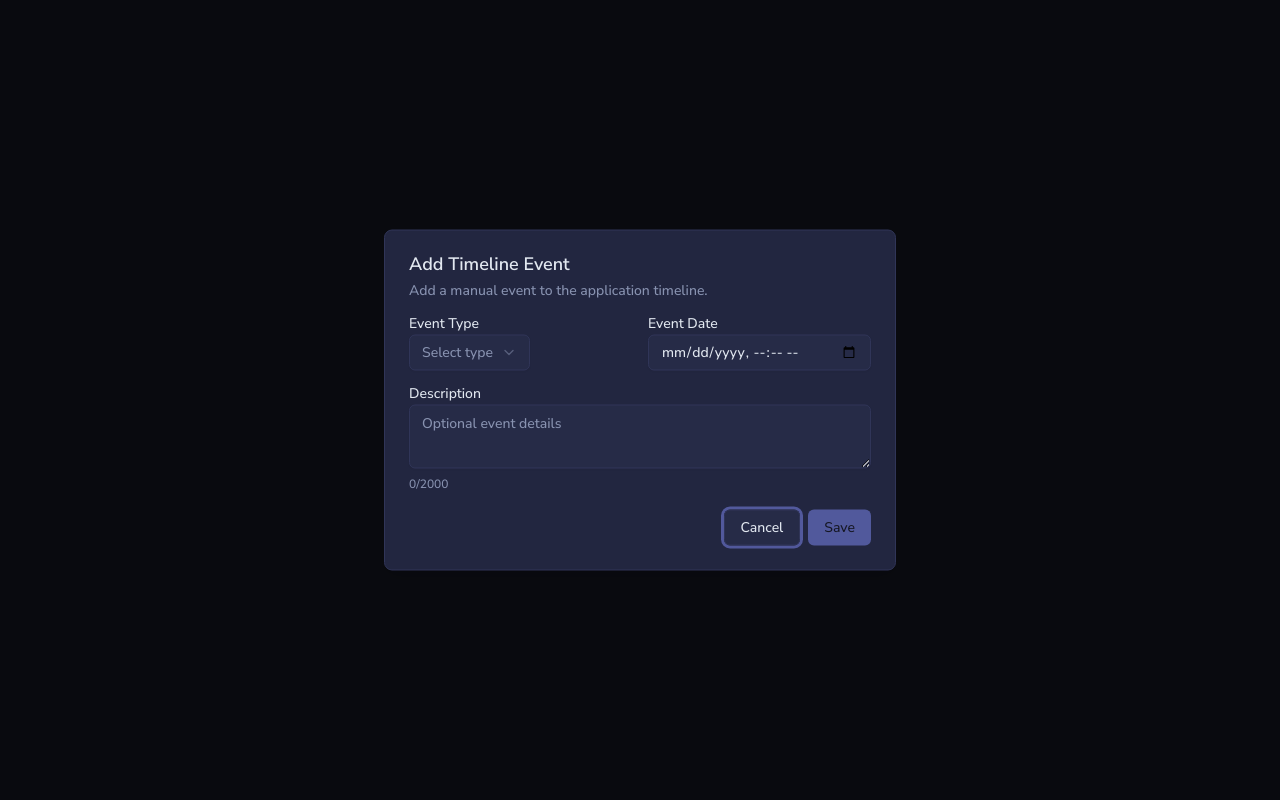
it: AddTimelineEventDialog › conditional interview stage › shows interview stage when interview_completed is selected
# Select interview_completed
Click the dropdown with test id "event-type-select" at (470, 352), box [409,334,530,370]
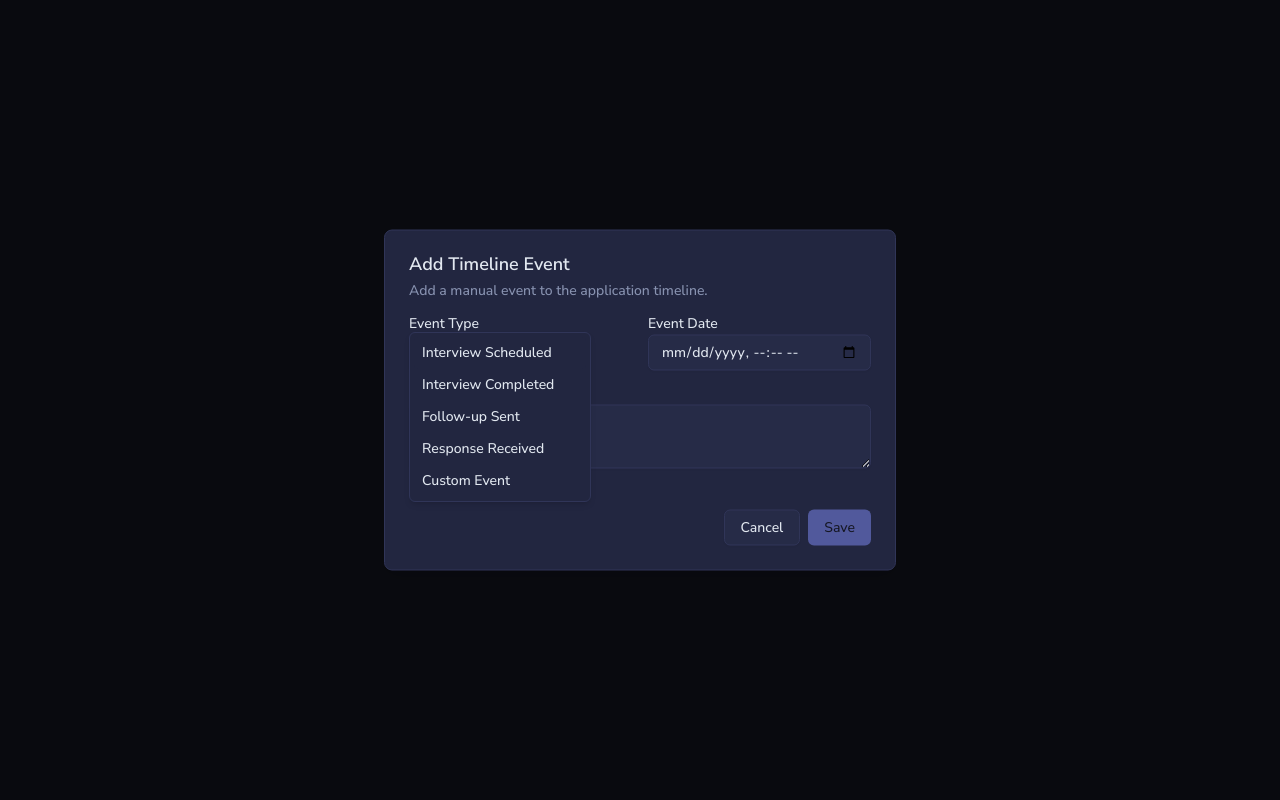
Now the option "Interview Completed" is shown
Click the option "Interview Completed" at (488, 384), box [422,374,554,394]
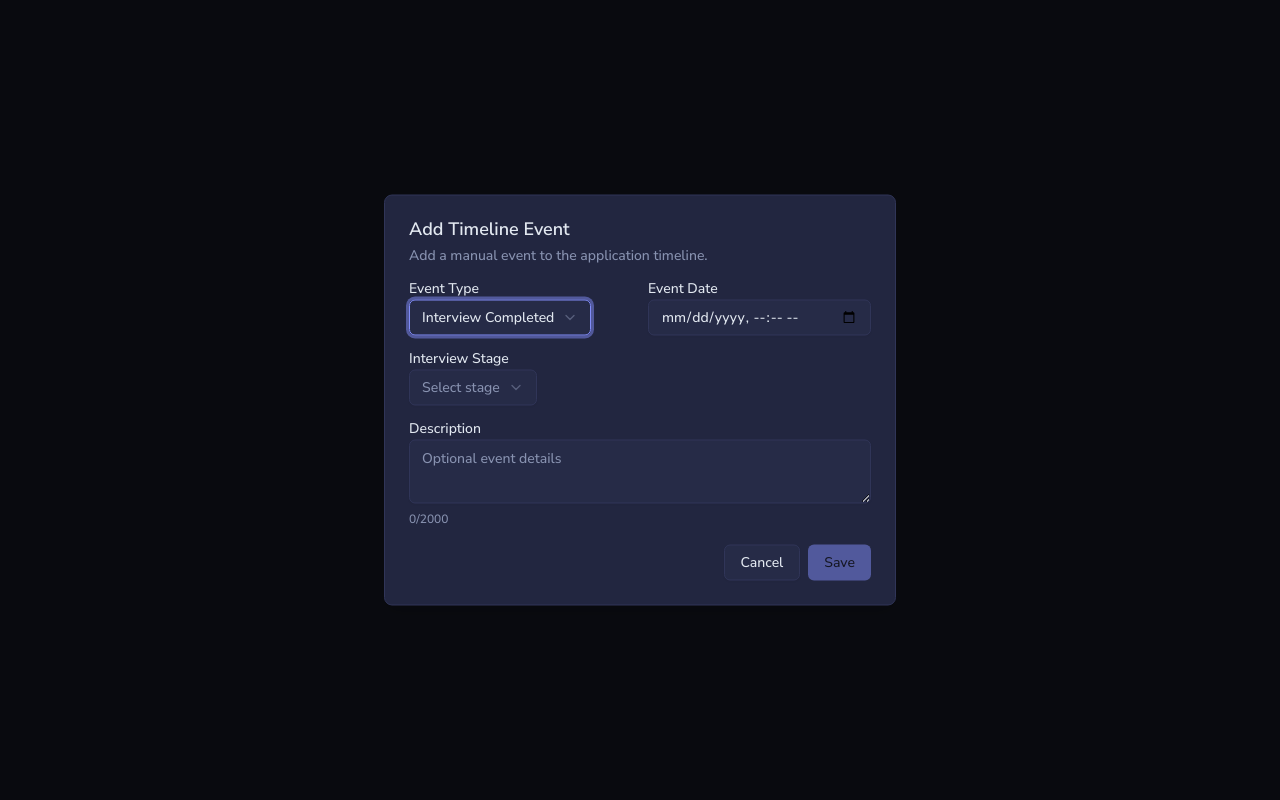
Now the dropdown named "Interview Stage" is shown, box [409,370,537,406]
